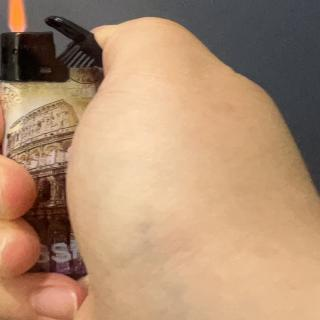fire: (3, 0, 28, 33)
